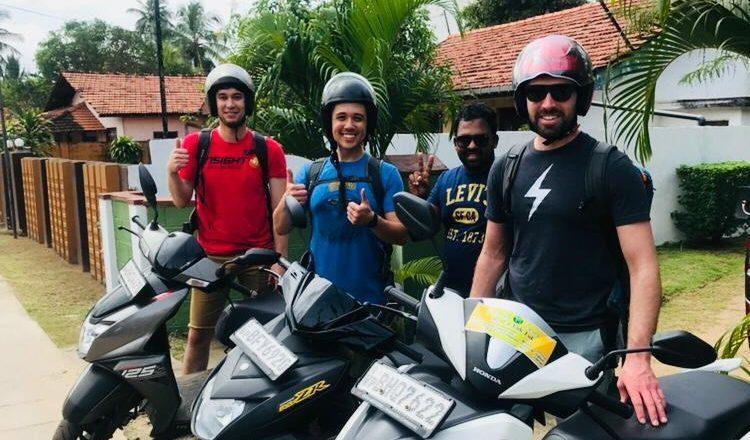motorbike: (334, 189, 750, 440), (51, 163, 290, 440), (190, 196, 425, 440)
